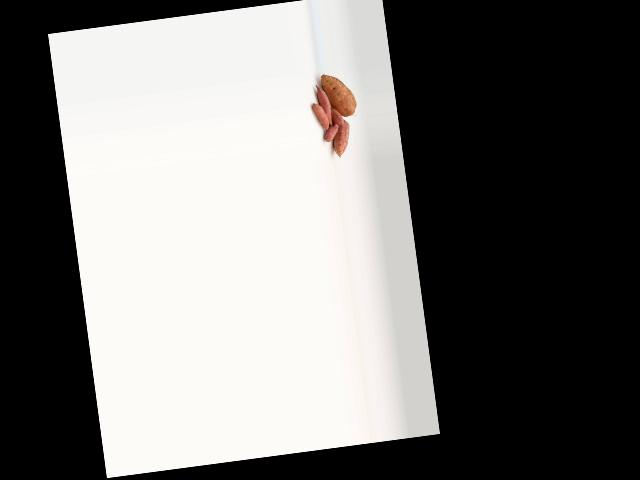sweet_potato: (330, 120, 353, 159)
